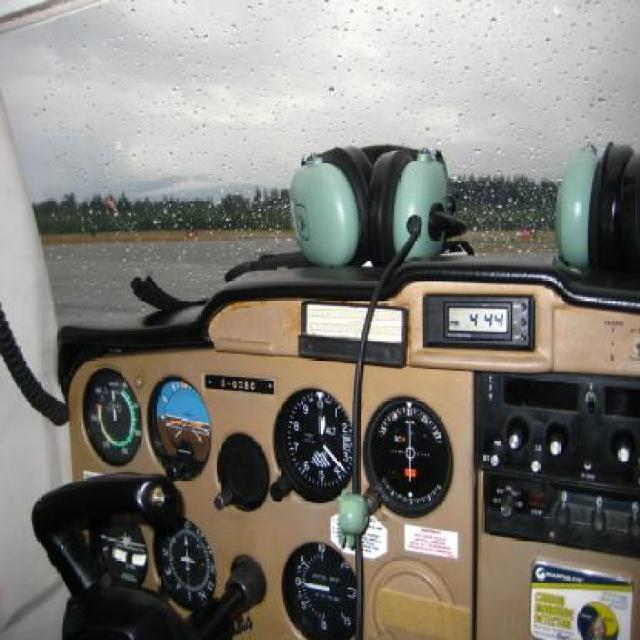earphone: (265, 102, 505, 268), (540, 137, 640, 280)
